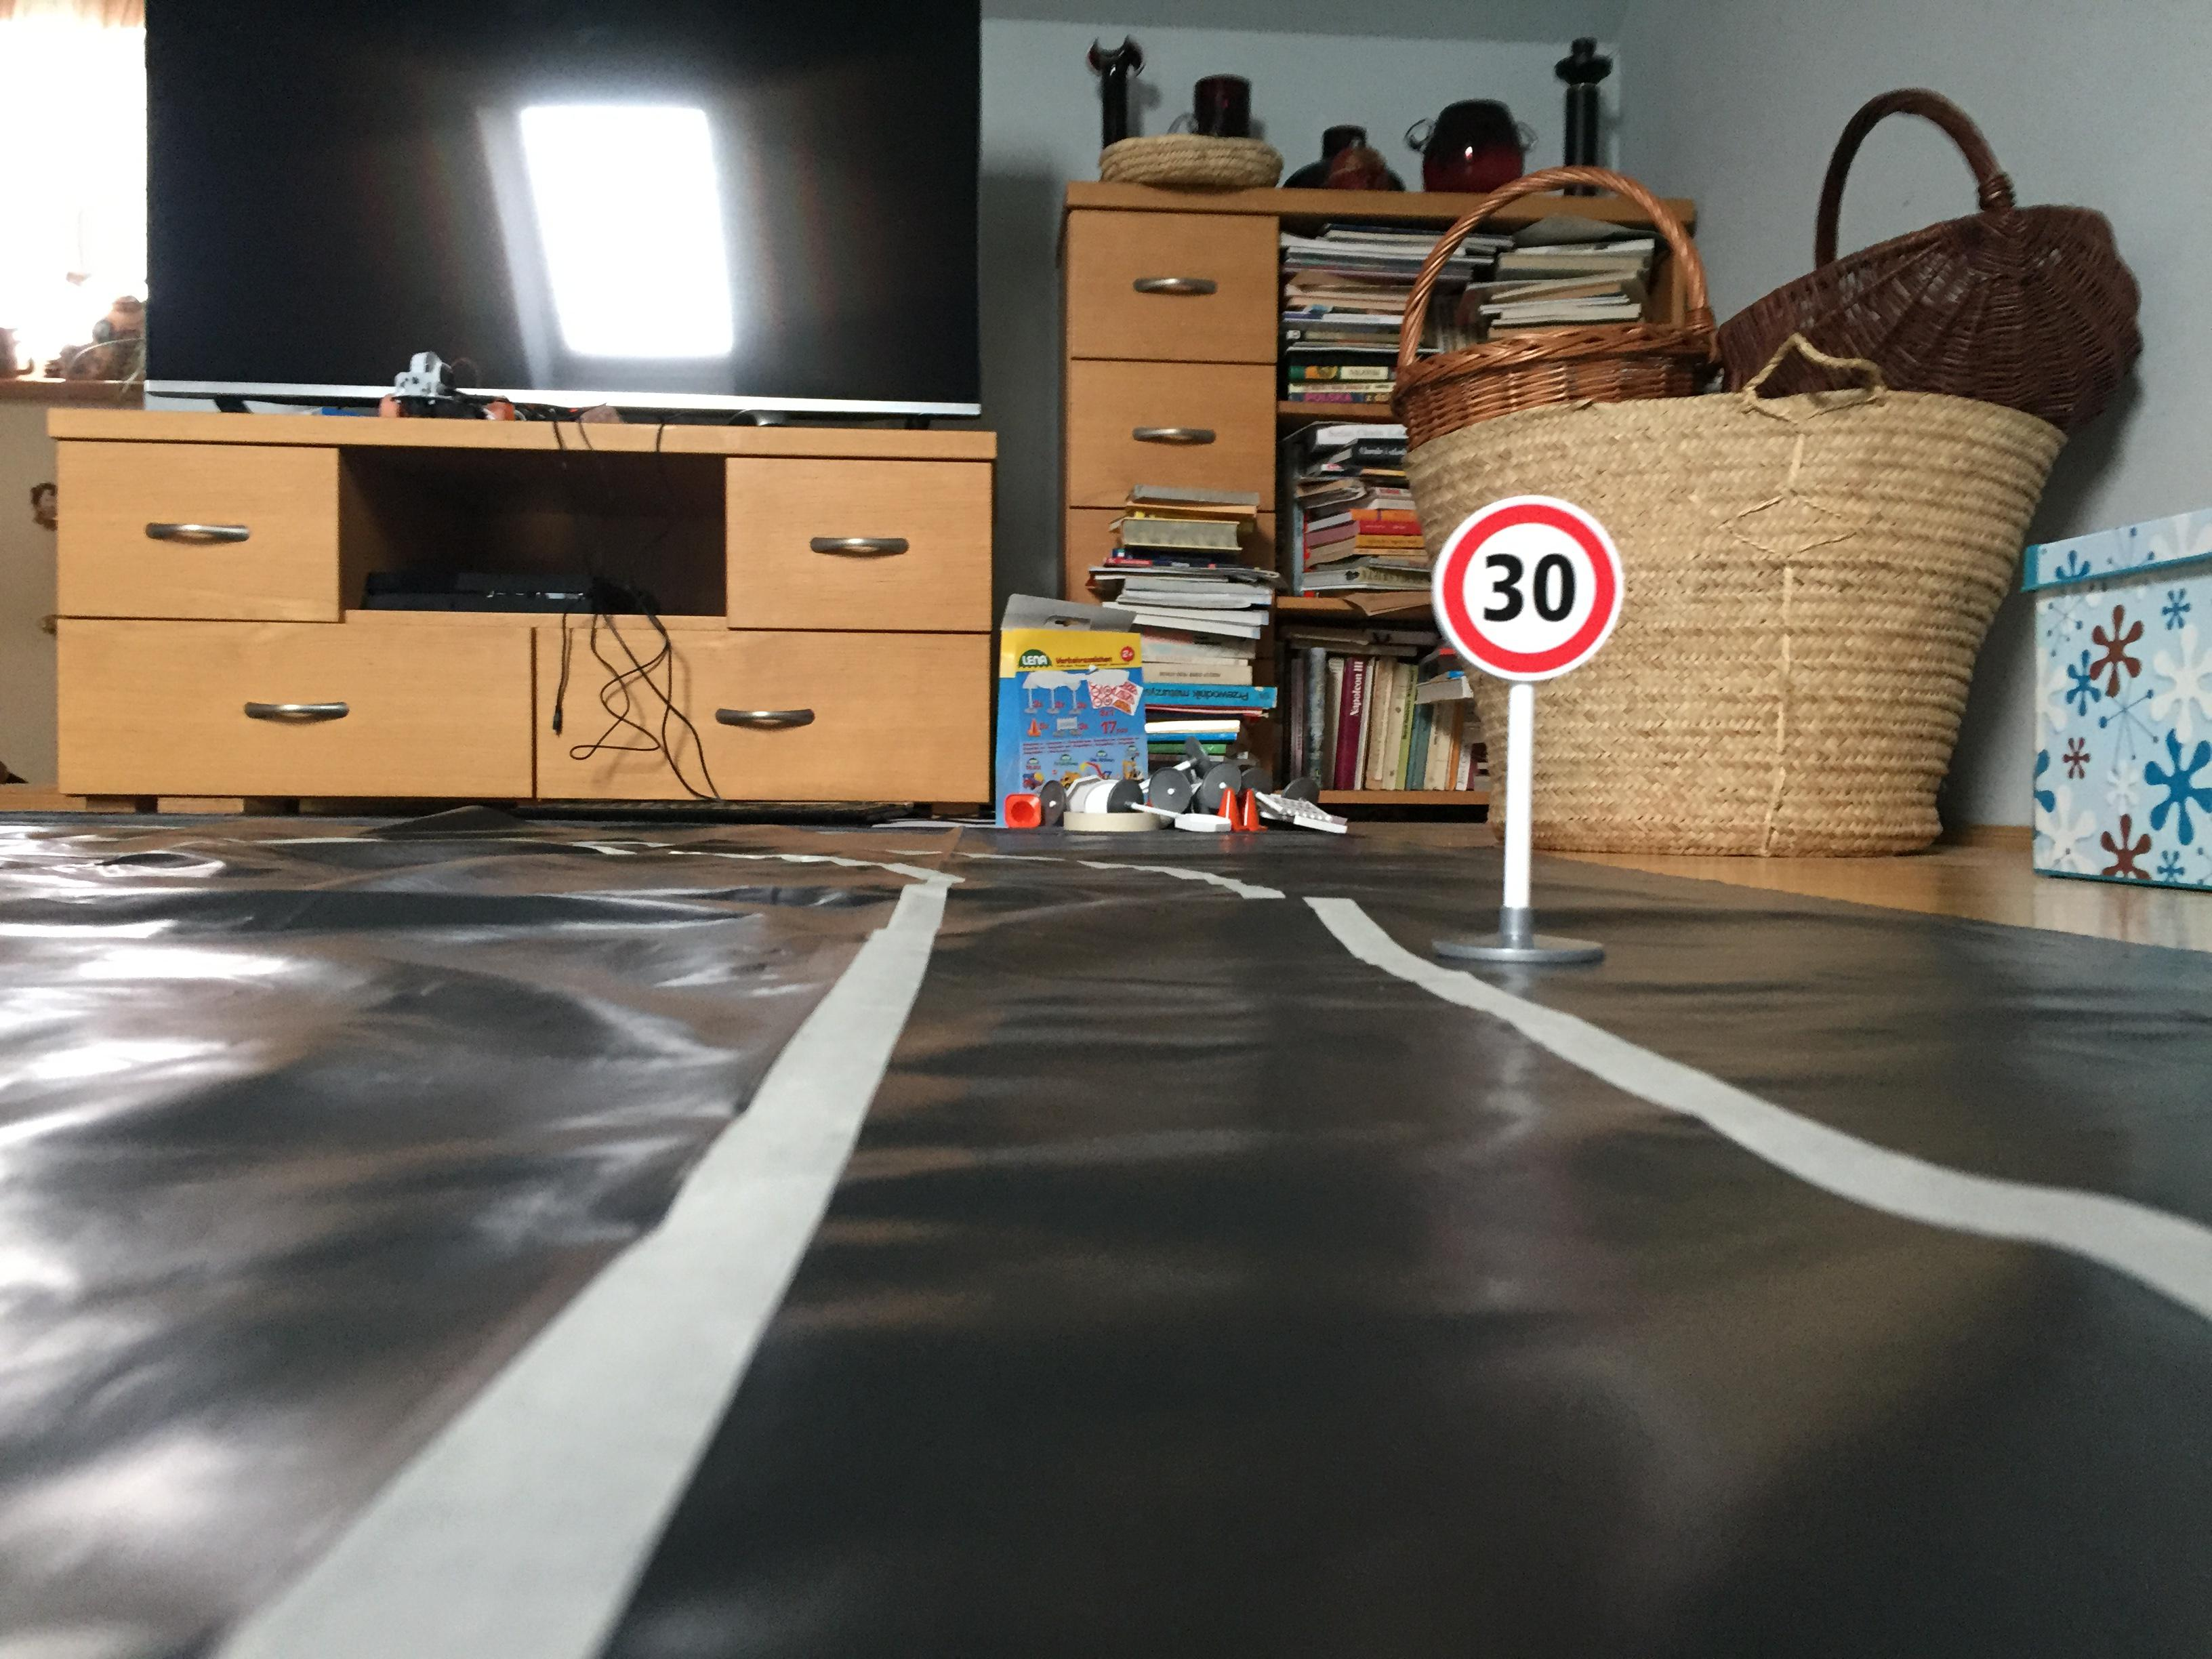speed: (1428, 488, 1632, 701)
